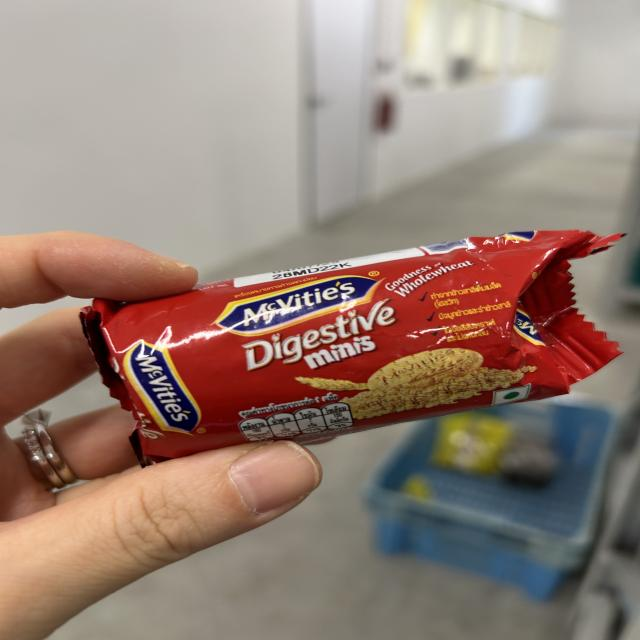object_name: (116, 284, 597, 427)
